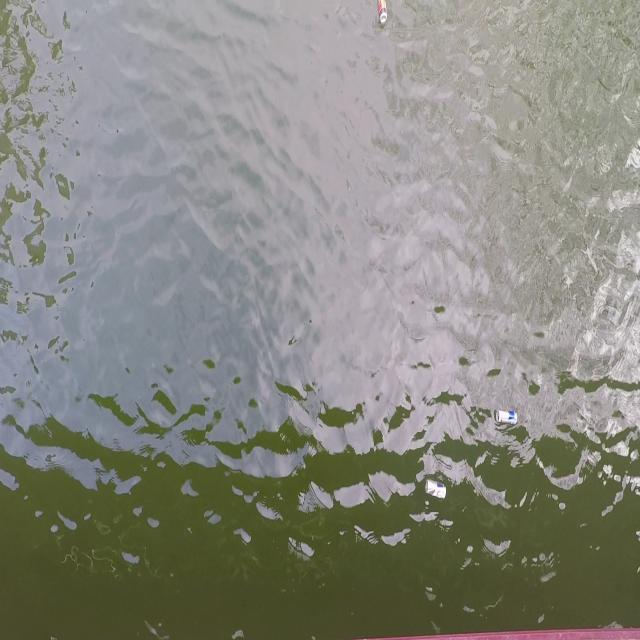Non plastique: (491, 407, 520, 429), (422, 478, 447, 503), (373, 0, 392, 27)
